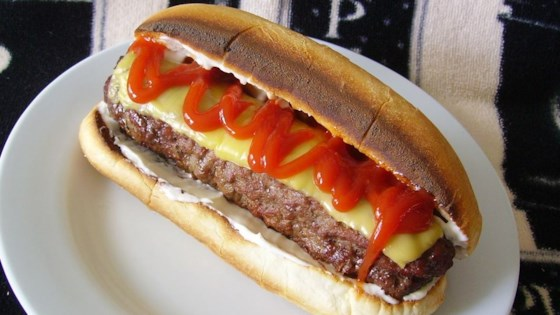hamburger_buns: (133, 4, 492, 296)
